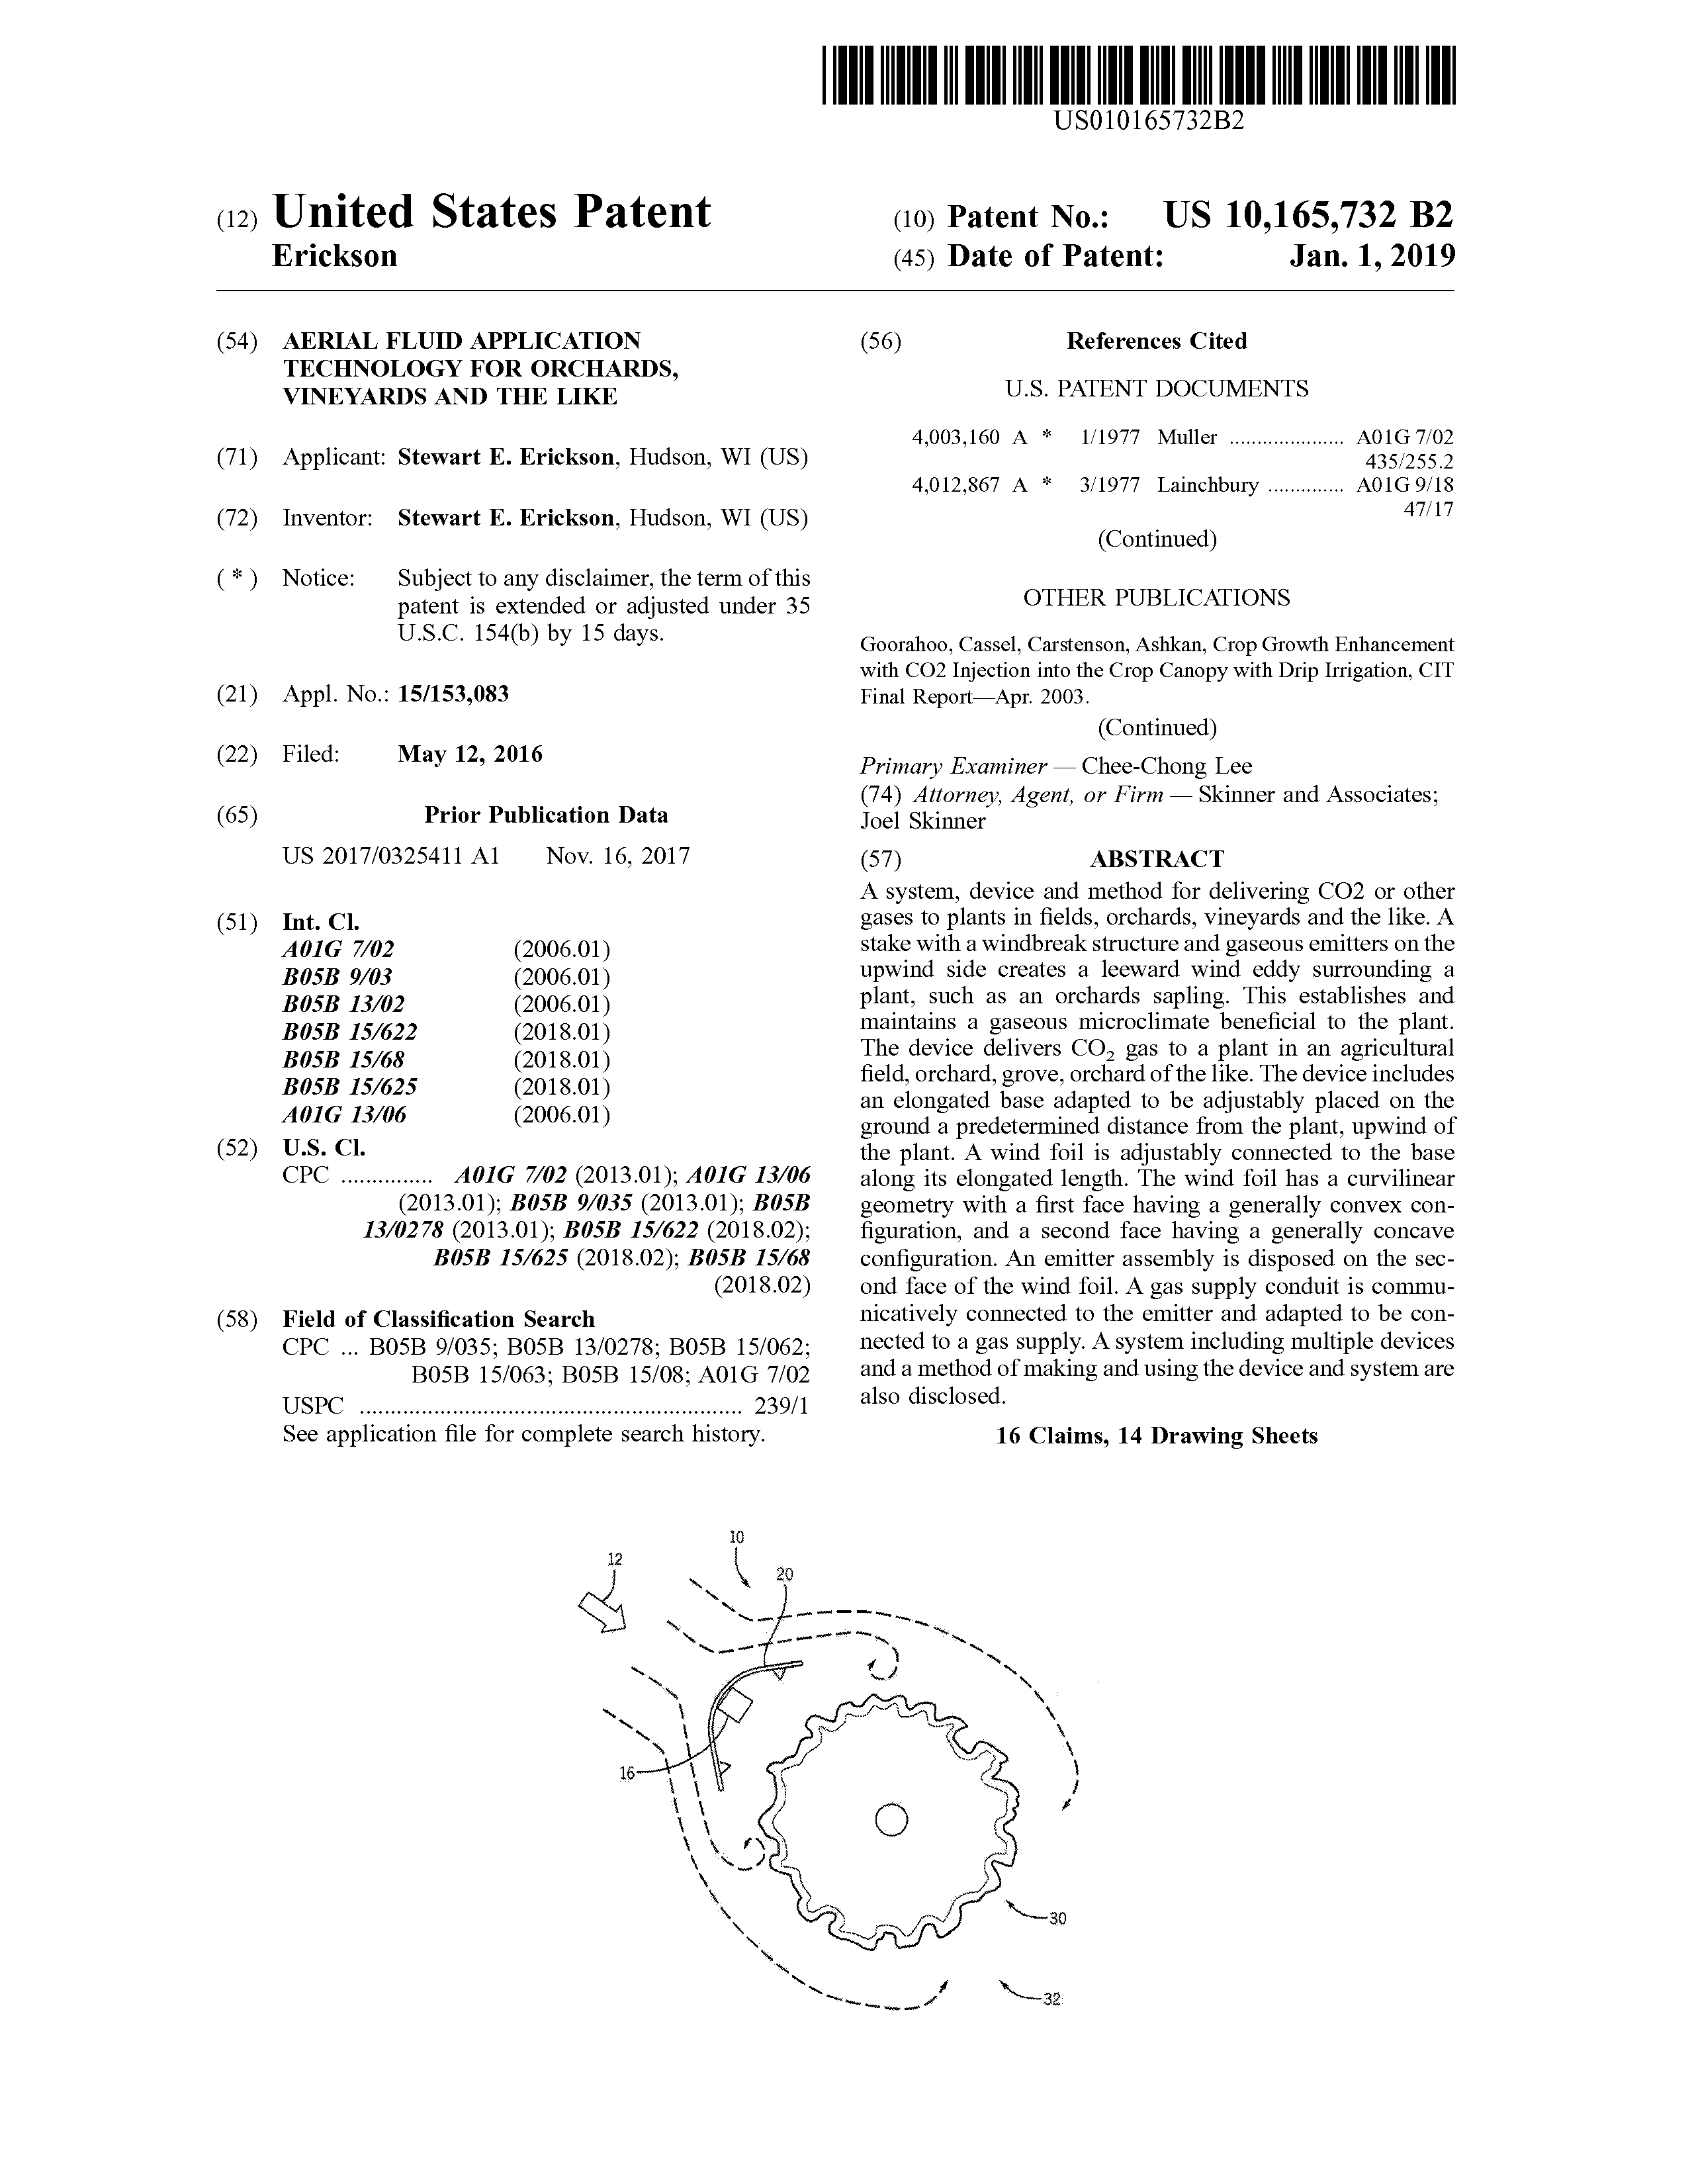patent image: (509, 1484, 1171, 2120)
